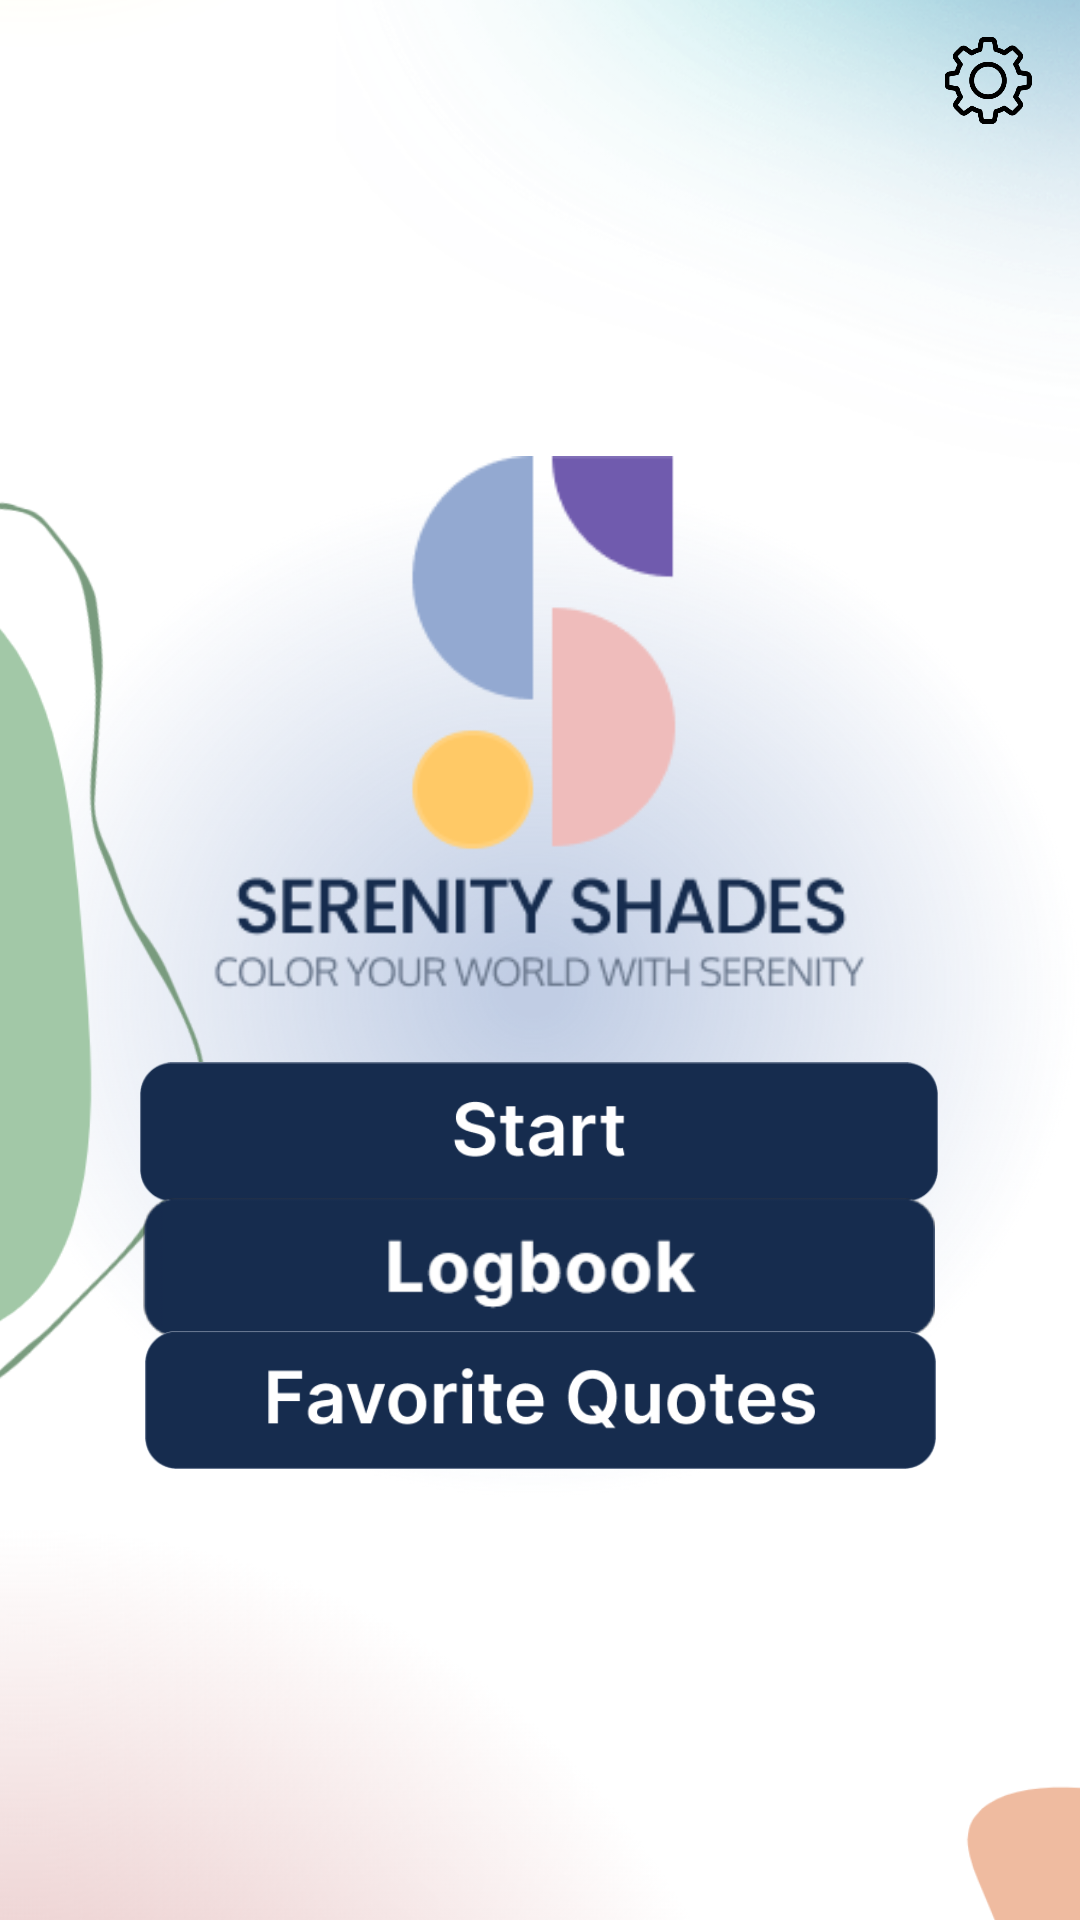

Screen size 1080px x 1920px. Icon name, then its box in pixels as (x1, y1, x2, y2):
setting: (945, 37, 1032, 124)
